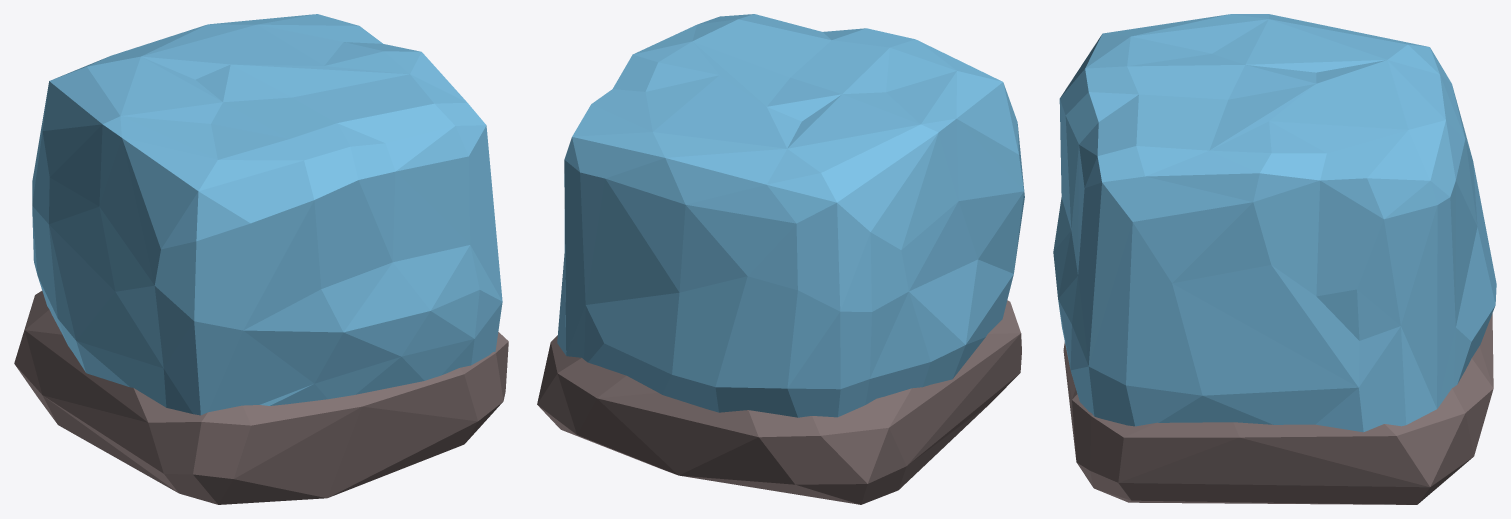
The model's file is Water.fbx.
3 renders of one model, left to right at view 1: azimuth 30°, elevation 25°; view 2: azimuth 150°, elevation 25°; view 3: azimuth 270°, elevation 25°, orthographic. The views are drawn at different scales.
Parts seen in each view (by area): view 1: Water; view 2: Water; view 3: Water.
Boxes of the visible parts, x1,y1,x2,y2 form: Water: (14,14,508,504); Water: (537,14,1024,504); Water: (1053,14,1496,504).
Size of the model in its own units: 111 by 100 by 113.
